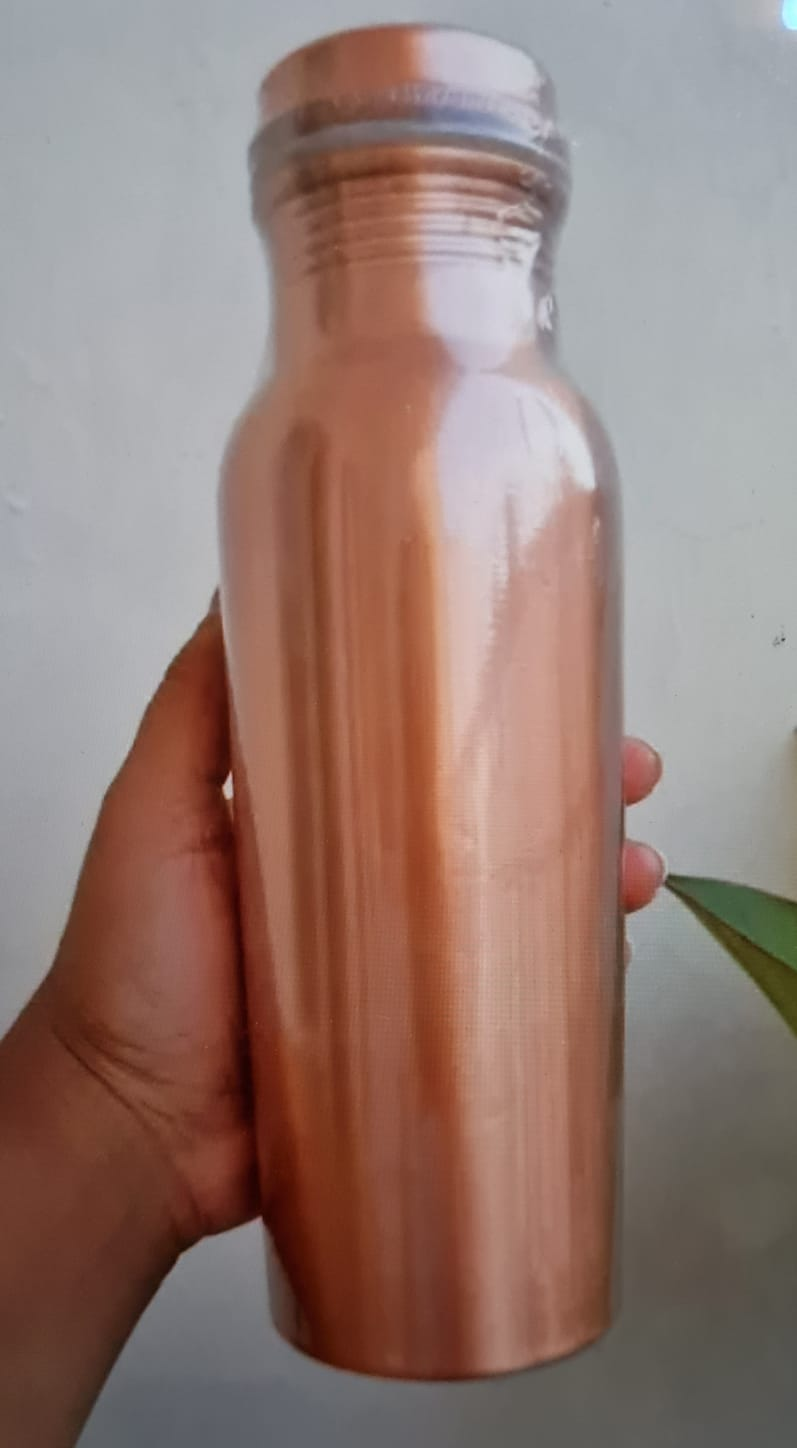bottle: (193, 19, 684, 1408)
